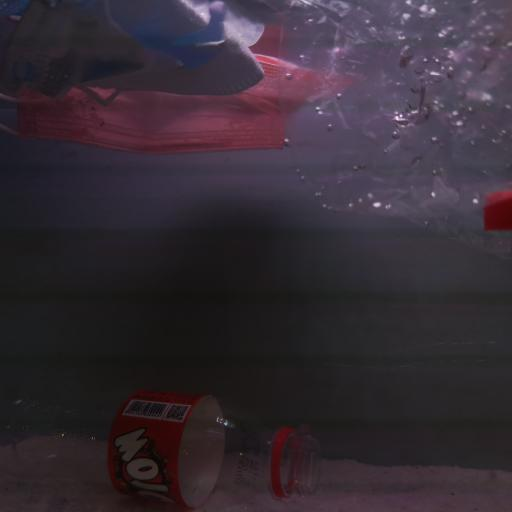bottle_cap: (478, 193, 512, 231)
mask: (0, 49, 340, 156), (2, 0, 263, 98)
plastic_bag: (263, 2, 512, 255)
plastic_bottle: (0, 388, 321, 511)
